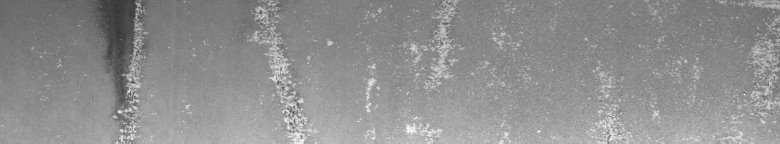hc: (57, 4, 190, 136)
